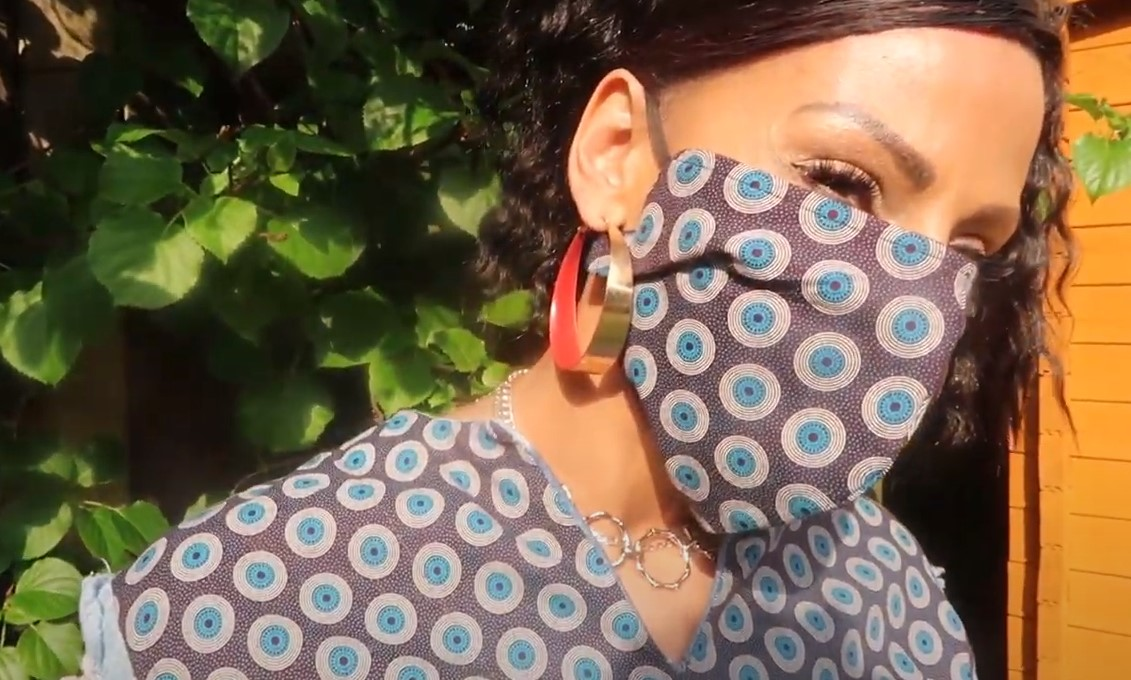face_with_mask: (539, 5, 1062, 553)
